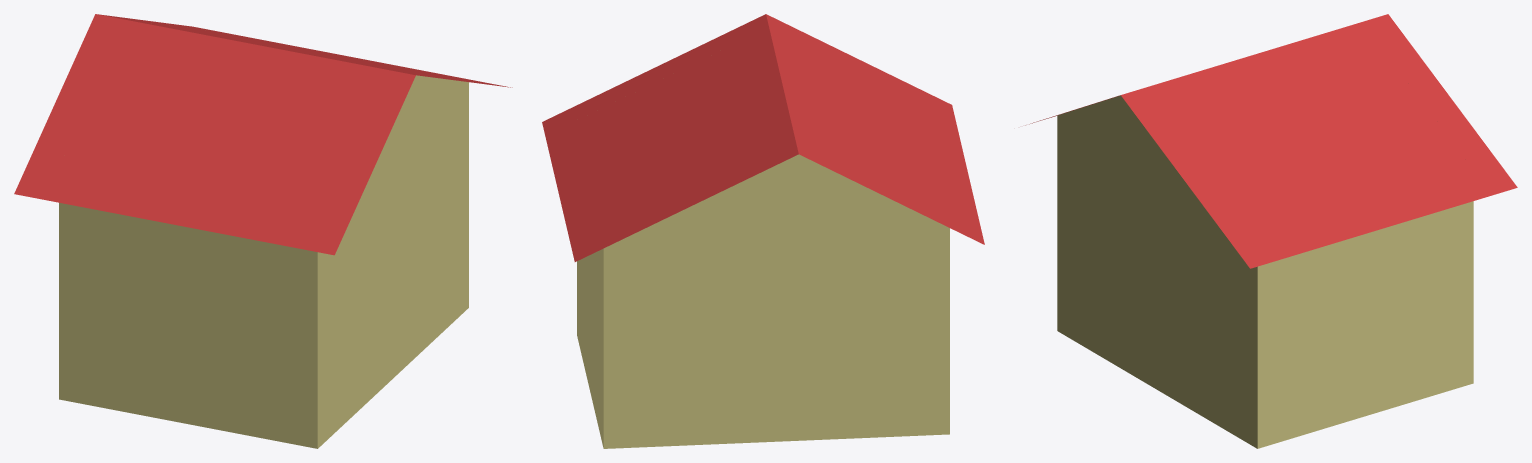
3 views of the same model, side by side, from view 1: azimuth 30°, elevation 25°; view 2: azimuth 150°, elevation 25°; view 3: azimuth 270°, elevation 25° (orthographic). The views are drawn at different scales.
Bounding box in the file's own units: 12.37 × 11.95 × 7.74.
